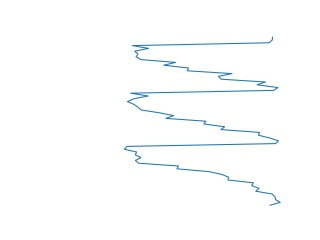distributaryMouthBar: (121, 34, 284, 209)
